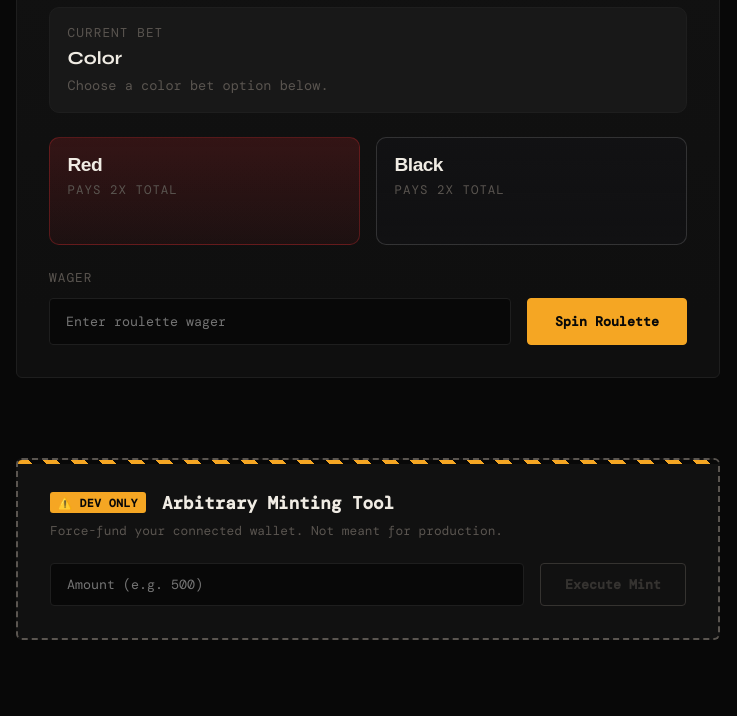
Test: EarnPage › shows error when dev mint amount is invalid or zero
(page scrolled)
Type "-50" into the number field with placeholder "Amount (e.g. 500)" at (287, 584), box [50,563,524,606]
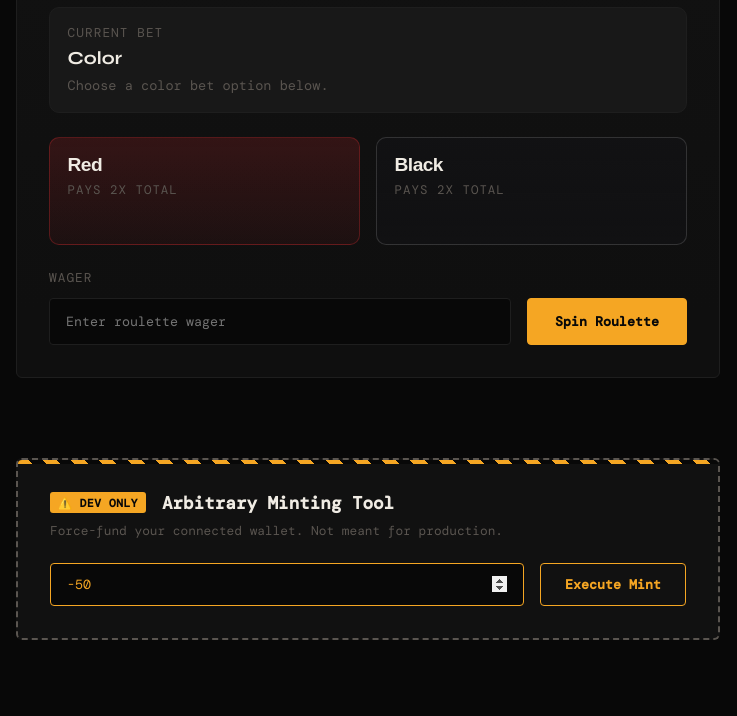
Click the button "Execute Mint" at (613, 584), box [540,563,686,606]
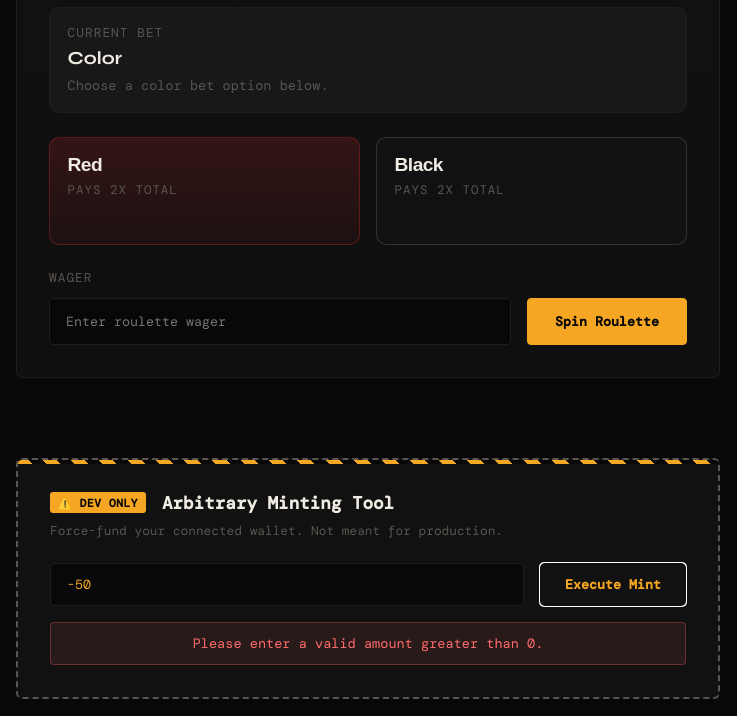
Expected: the text "Please enter a valid amount greater than 0." is shown, [50,622,686,665]
